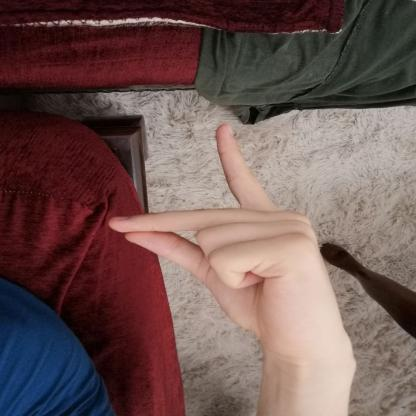TAA: (95, 116, 355, 356)
